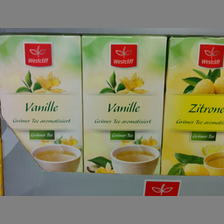tea: (81, 35, 167, 177), (1, 33, 84, 173), (161, 36, 224, 176)
